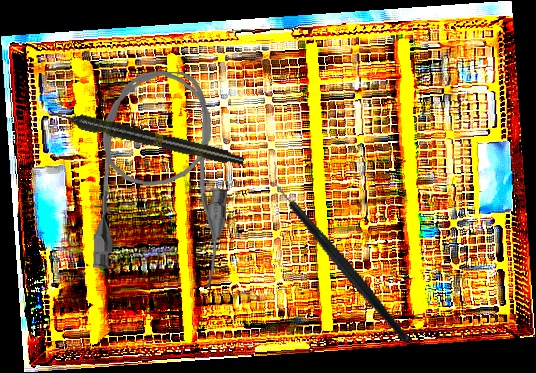Cannula: (92, 68, 233, 288)
Chopper: (255, 149, 413, 373)
Handpiece: (47, 104, 246, 170)
